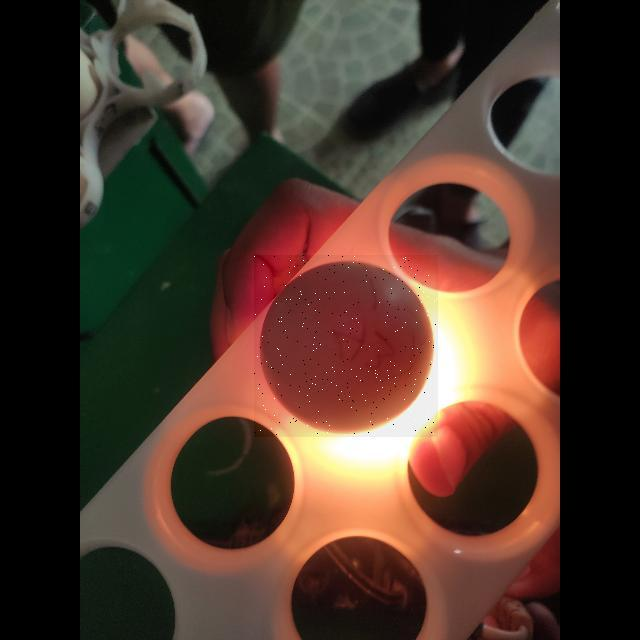Fertile: (254, 255, 438, 437)
